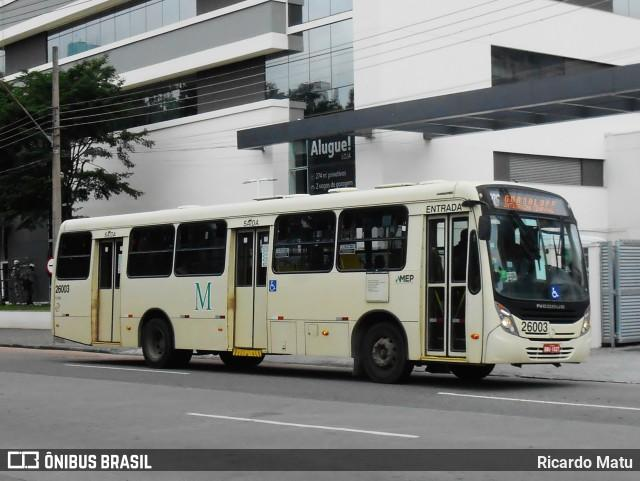GUADALUPE: (501, 191, 561, 210)
